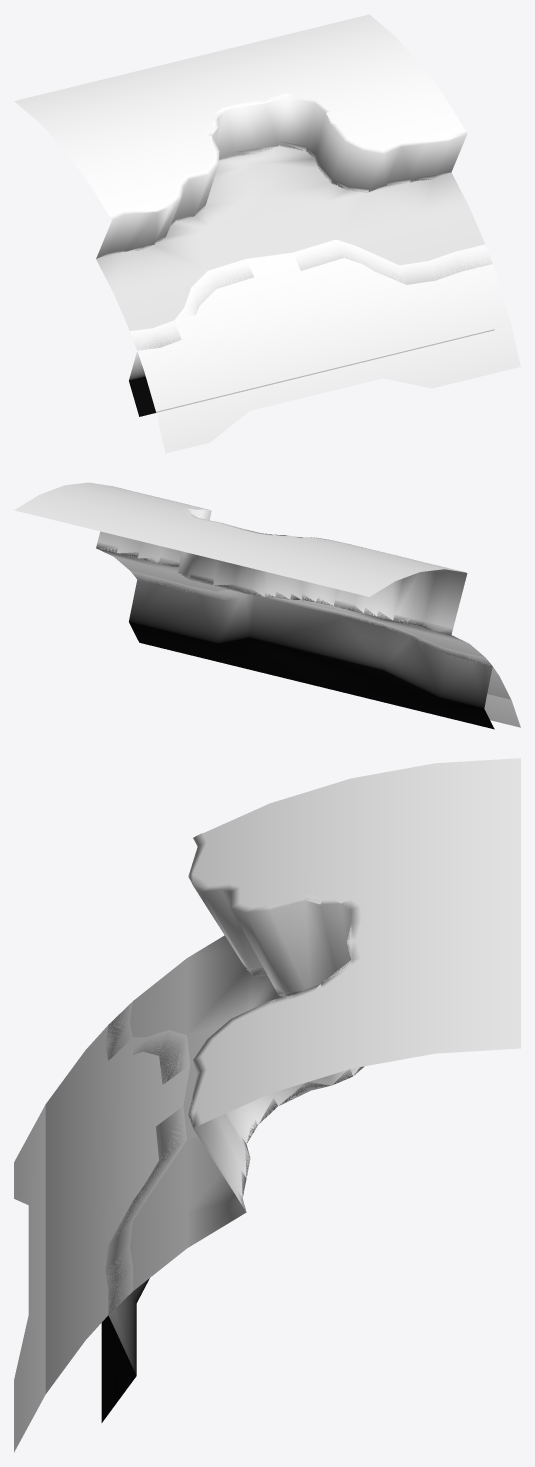
File: grd_Ms_2.dae
The picture shows the model from 3 angles, top to bottom: view 1: azimuth 30°, elevation 25°; view 2: azimuth 150°, elevation 25°; view 3: azimuth 270°, elevation 25°; orthographic projection. The views are drawn at different scales.
Visible parts, largest first — view 1: glass_3_0, wave_5_0, ocean_4_0, beach_0_0, criff_2_0, beach_1_0; view 2: beach_1_0, glass_3_0, criff_2_0, beach_0_0, wave_5_0, ocean_4_0; view 3: glass_3_0, ocean_4_0, wave_5_0, beach_0_0, criff_2_0, beach_1_0.
Boxes of the visible parts, <box> form: glass_3_0: <box>14,14,464,216</box>; wave_5_0: <box>138,246,520,453</box>; ocean_4_0: <box>133,241,511,411</box>; beach_0_0: <box>96,141,485,330</box>; criff_2_0: <box>96,92,467,258</box>; beach_1_0: <box>129,239,493,416</box>; beach_1_0: <box>129,570,494,729</box>; glass_3_0: <box>14,482,465,596</box>; criff_2_0: <box>97,488,467,630</box>; beach_0_0: <box>96,542,484,657</box>; wave_5_0: <box>232,590,520,727</box>; ocean_4_0: <box>133,572,510,699</box>; glass_3_0: <box>189,758,520,1125</box>; ocean_4_0: <box>45,1002,188,1393</box>; wave_5_0: <box>14,1024,188,1452</box>; beach_0_0: <box>129,935,364,1290</box>; criff_2_0: <box>188,833,361,1210</box>; beach_1_0: <box>101,1001,190,1422</box>.
Bounding box in the file's own units: 512 × 332 × 378.
Materials: 6 (1 with a texture image).
